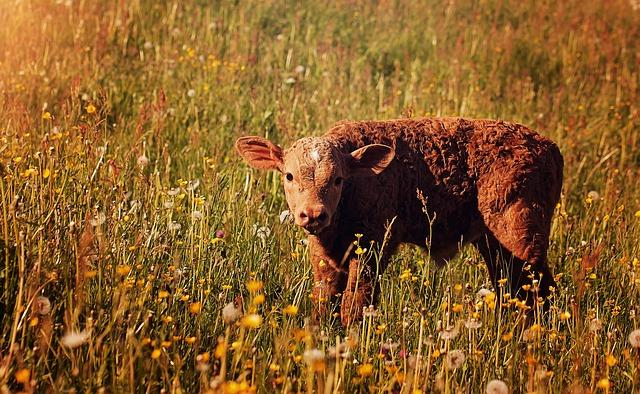Non_Gorille: (56, 0, 615, 389)
